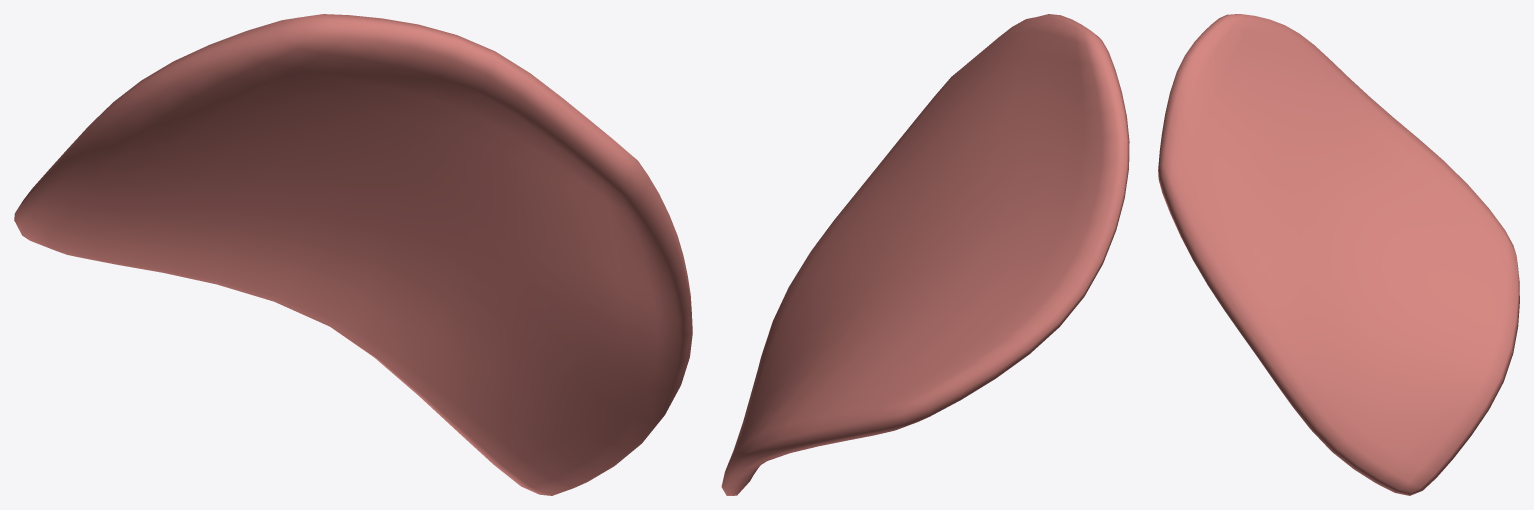
3 views of the same model, side by side, from view 1: azimuth 30°, elevation 25°; view 2: azimuth 150°, elevation 25°; view 3: azimuth 270°, elevation 25° (orthographic). The views are drawn at different scales.
Parts seen in each view (by area): view 1: ZA_0d9793700f42a302; view 2: ZA_0d9793700f42a302; view 3: ZA_0d9793700f42a302.
Part boxes in pixels (x1,y1,x2,y2): ZA_0d9793700f42a302: (14, 14, 692, 495); ZA_0d9793700f42a302: (721, 14, 1129, 495); ZA_0d9793700f42a302: (1158, 14, 1519, 495).
Bounding box in the file's own units: 0.0153 × 0.0175 × 0.0152.
